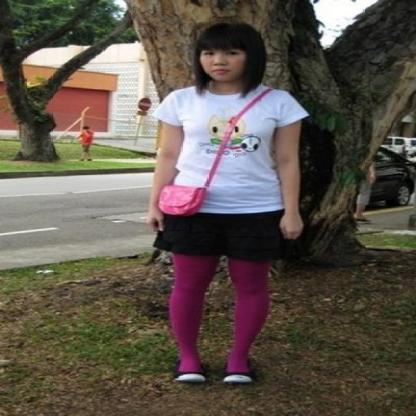bag: (159, 158, 221, 214)
shirt: (149, 83, 308, 213)
shoe: (174, 372, 252, 390)
shorts: (154, 209, 292, 262)
